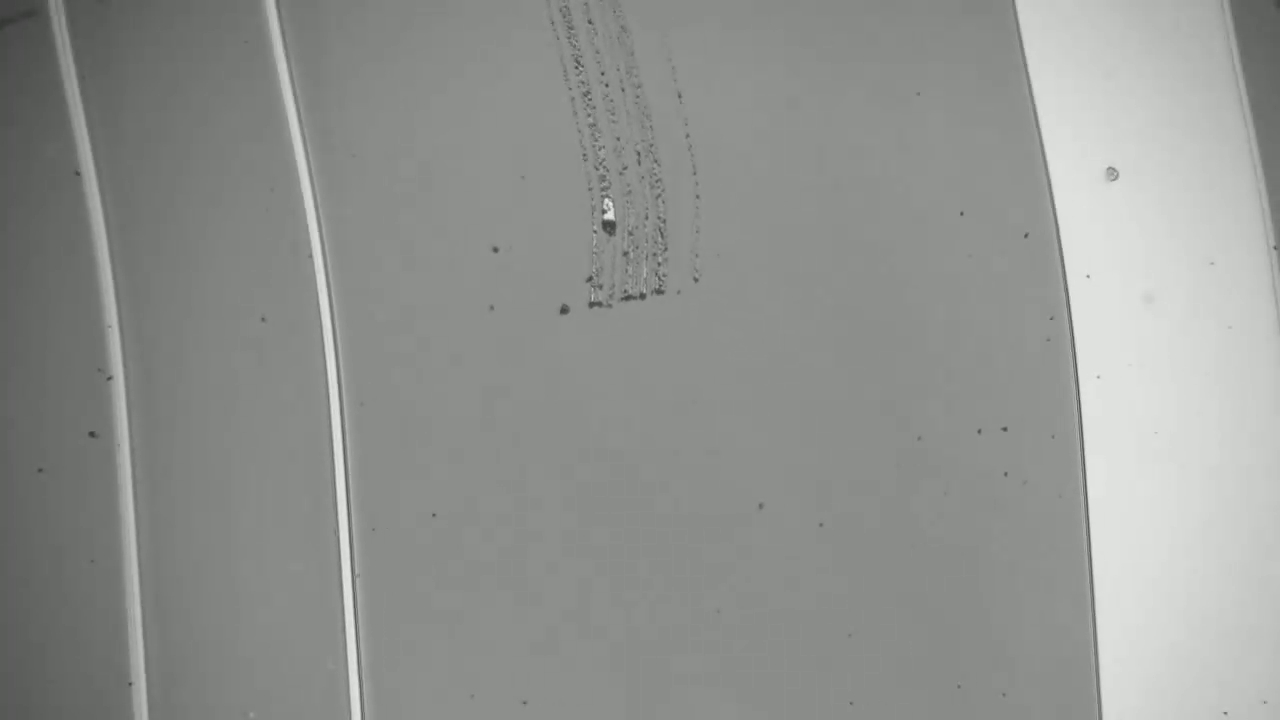scratch: (540, 1, 700, 317)
